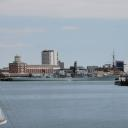Fragata: (7, 67, 123, 83)
